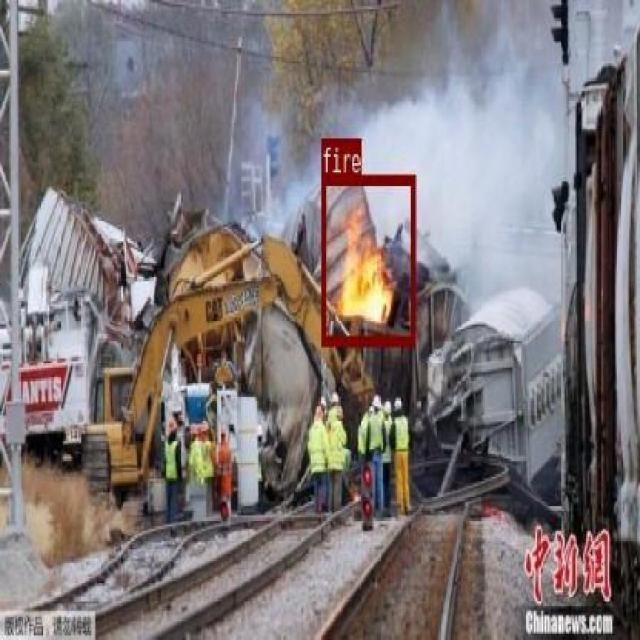fire: (321, 173, 415, 346)
